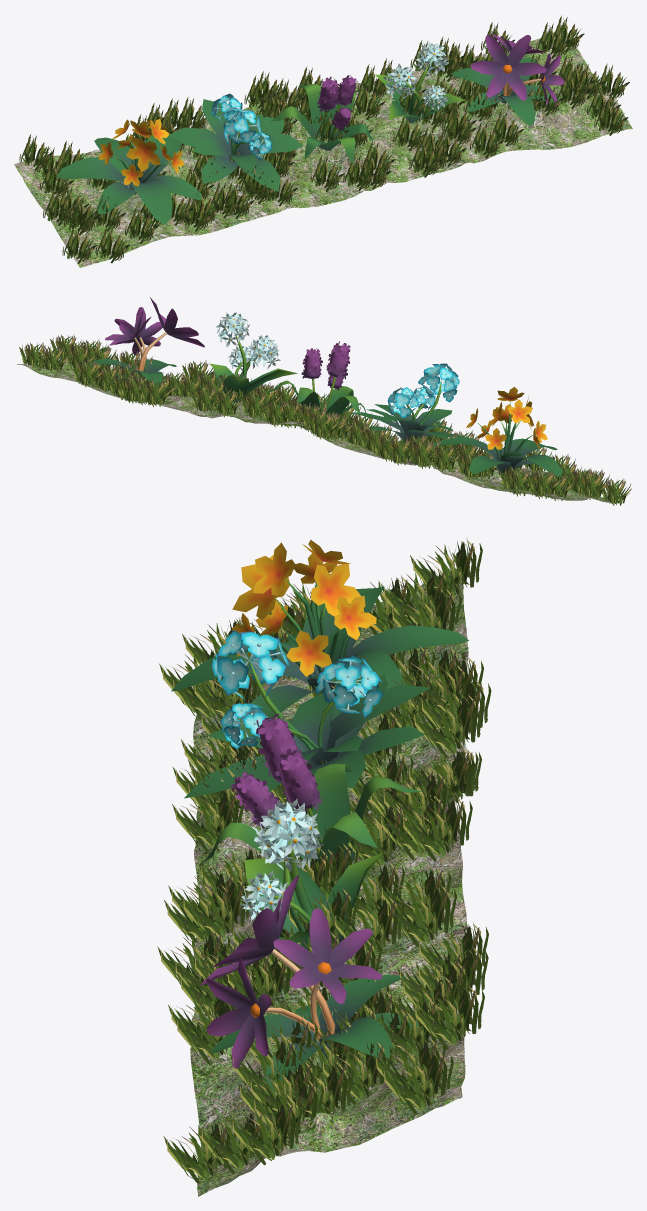
The model's file is garden-bed2.glb.
The picture shows the model from 3 angles, top to bottom: view 1: azimuth 30°, elevation 25°; view 2: azimuth 150°, elevation 25°; view 3: azimuth 270°, elevation 25°; orthographic projection. The views are drawn at different scales.
Parts seen in each view (by area): view 1: grass_varient_2_grass2_0.080, ground, flower0, flower1, flower4, flower2, flower3; view 2: grass_varient_2_grass2_0.080, flower0, flower1, ground, flower3, flower4, flower2; view 3: grass_varient_2_grass2_0.080, ground, flower4, flower0, flower1, flower2, flower3.
Boxes of the visible parts, <box> form: grass_varient_2_grass2_0.080: <box>19,15,629,263</box>; ground: <box>14,30,632,267</box>; flower0: <box>56,119,201,224</box>; flower1: <box>169,93,303,191</box>; flower4: <box>451,33,564,126</box>; flower2: <box>270,75,373,163</box>; flower3: <box>375,42,464,123</box>; grass_varient_2_grass2_0.080: <box>19,334,631,505</box>; flower0: <box>432,387,571,476</box>; flower1: <box>348,363,465,441</box>; ground: <box>17,359,622,503</box>; flower3: <box>209,312,297,404</box>; flower4: <box>83,297,204,385</box>; flower2: <box>267,341,369,418</box>; grass_varient_2_grass2_0.080: <box>157,539,491,1183</box>; ground: <box>190,575,468,1196</box>; flower4: <box>200,875,418,1090</box>; flower0: <box>171,540,468,724</box>; flower1: <box>184,630,430,798</box>; flower2: <box>202,714,422,870</box>; flower3: <box>240,798,383,949</box>.
Size of what is drawn, in the model's own units: 154 by 30.16 by 39.48.
3 materials, 3 textured.
